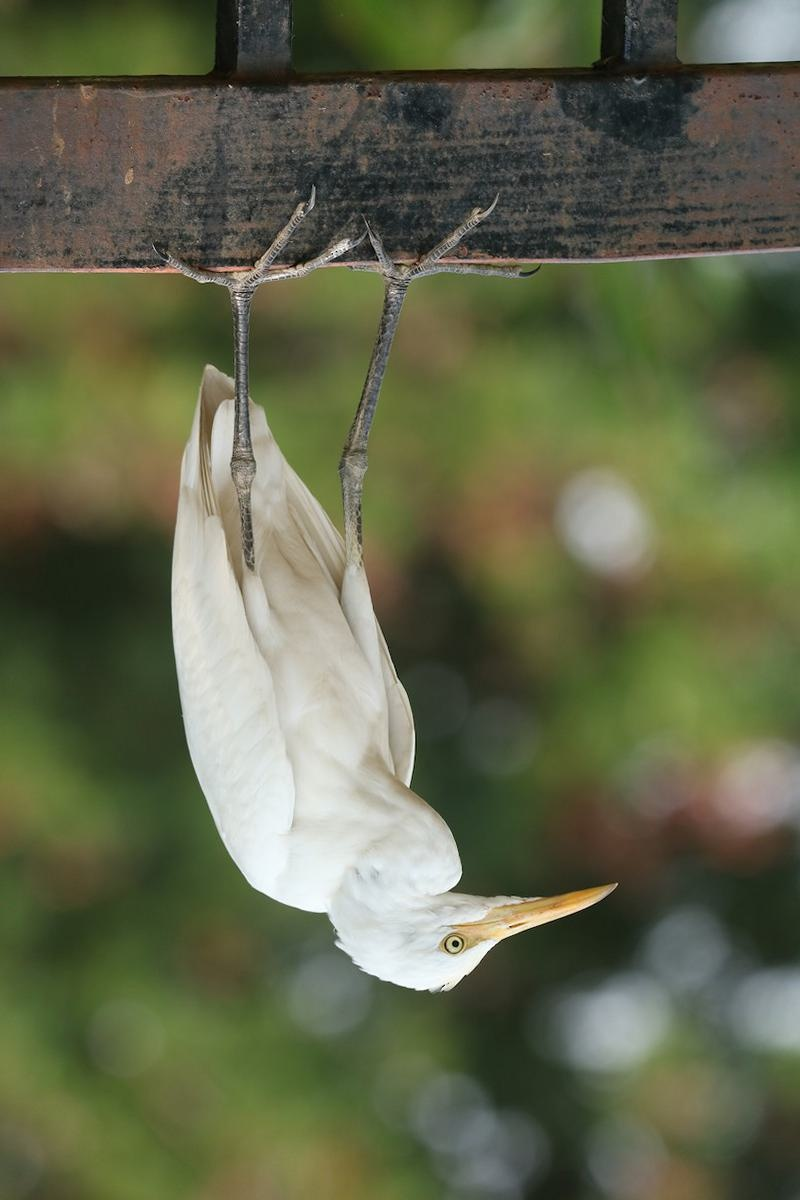egret: (106, 146, 646, 1012)
